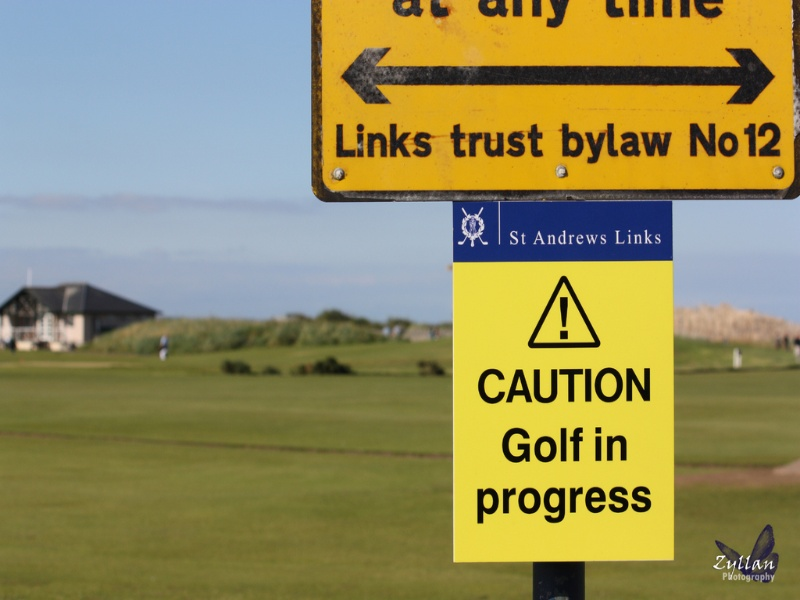left_direction: (336, 43, 550, 109)
right_direction: (561, 37, 778, 110)
warning: (526, 275, 604, 351)
